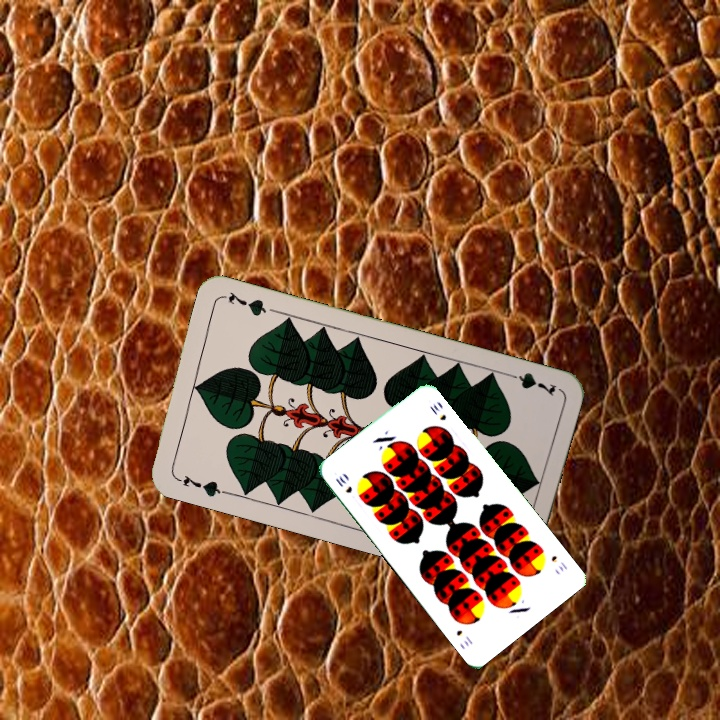G7: (501, 368, 558, 399), (171, 471, 229, 500)
S10: (331, 472, 355, 496), (547, 552, 570, 574)
